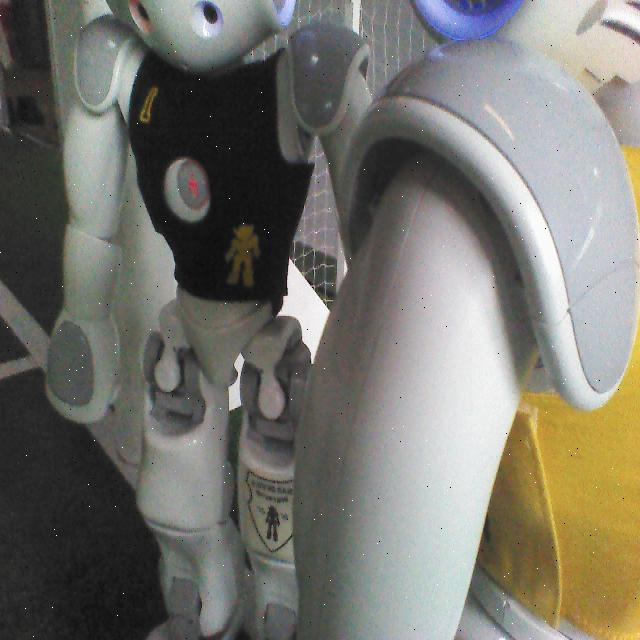goalpost: (115, 133, 174, 463)
